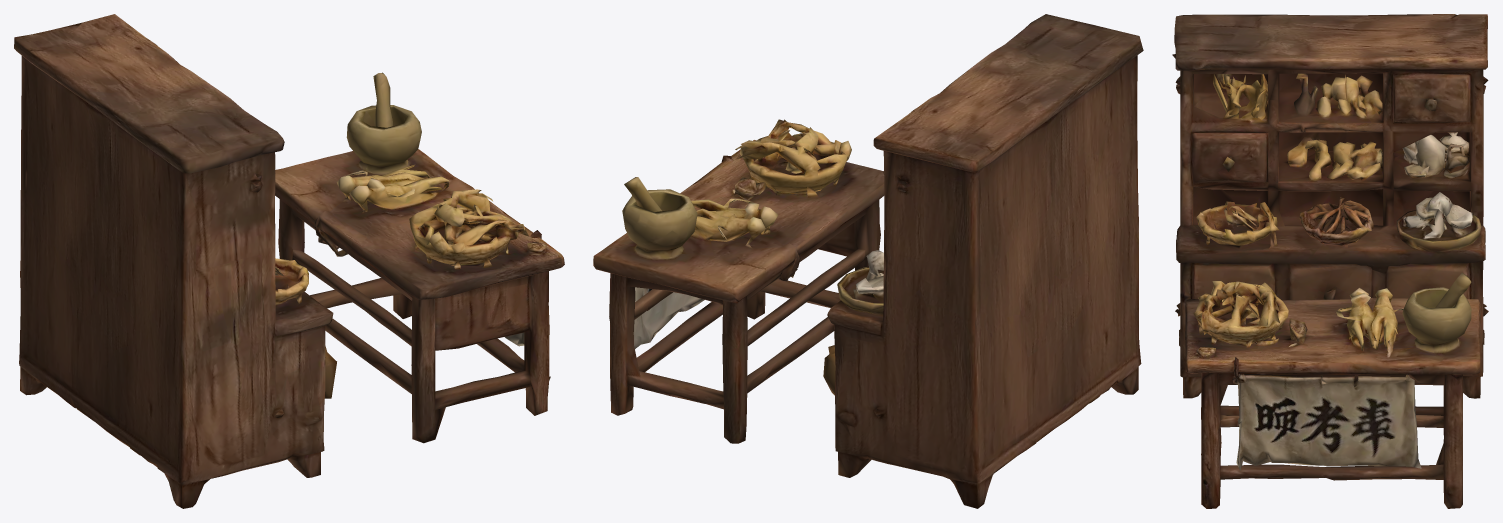
Rendered from stall-medicine.glb.
The picture shows the model from 3 angles, left to right: view 1: azimuth 30°, elevation 25°; view 2: azimuth 150°, elevation 25°; view 3: azimuth 270°, elevation 25°; orthographic projection. The views are drawn at different scales.
Parts seen in each view (by area): view 1: tripo_node_b5dd0a63-8c69-412c-9199-1d059ce7e6b6; view 2: tripo_node_b5dd0a63-8c69-412c-9199-1d059ce7e6b6; view 3: tripo_node_b5dd0a63-8c69-412c-9199-1d059ce7e6b6.
Boxes of the visible parts, x1=… form: tripo_node_b5dd0a63-8c69-412c-9199-1d059ce7e6b6: x1=14, y1=14, x2=564, y2=508; tripo_node_b5dd0a63-8c69-412c-9199-1d059ce7e6b6: x1=593, y1=14, x2=1143, y2=508; tripo_node_b5dd0a63-8c69-412c-9199-1d059ce7e6b6: x1=1172, y1=14, x2=1488, y2=508.
Bounding box in the file's own units: 1 × 0.864 × 0.7626.
1 material, 1 textured.
